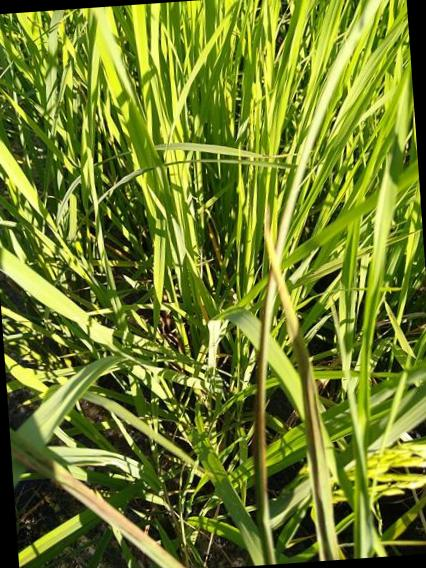Leaf Blight: (275, 0, 387, 262), (265, 223, 340, 561), (10, 428, 185, 568), (257, 273, 278, 565)
